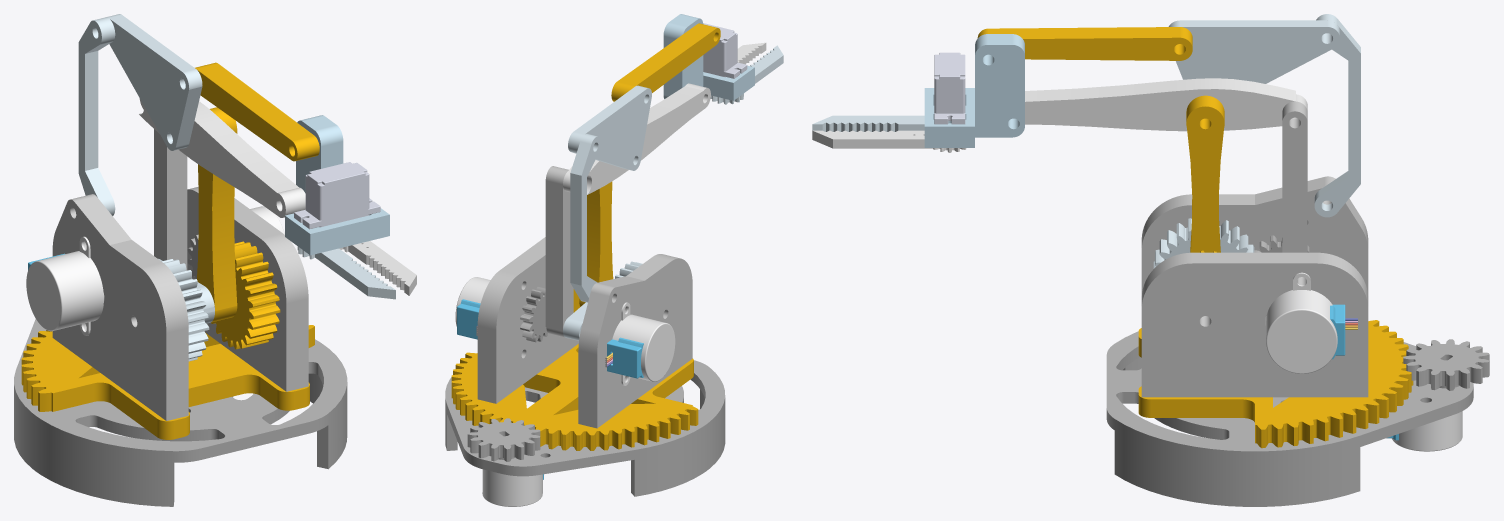
File: arm.gltf
The picture shows the model from 3 angles, left to right: view 1: azimuth 30°, elevation 25°; view 2: azimuth 150°, elevation 25°; view 3: azimuth 270°, elevation 25°; orthographic projection. The views are drawn at different scales.
Parts seen in each view (by area): view 1: Part 37, Support Level Link, Spur gear (60 teeth), X Drive, 28BYJ-48 v1 (×2), Support, Leveling Triangle, Main Arm, Elbow-Claw Leveling Link, Claw Mount, Base-Elbow Leveling Link, Main Dead Link (+3 smaller); view 2: Spur gear (60 teeth), Part 37, Support Level Link, 28BYJ-48 v1 (×5), Support, Main Dead Link, Leveling Triangle, Main Arm, Elbow-Claw Leveling Link, Base-Elbow Leveling Link, Claw Mount, Turret Pinion (+5 smaller); view 3: Support, Part 37, Spur gear (60 teeth), Main Arm, 28BYJ-48 v1 (×3), Support Level Link, Leveling Triangle, Claw Mount, Elbow-Claw Leveling Link, X Drive, Main Dead Link, Base-Elbow Leveling Link (+4 smaller).
Part boxes in pixels (x1,y1,x2,y2): Part 37: (14,319,347,506); Support Level Link: (52,194,188,420); Spur gear (60 teeth): (21,325,314,439); X Drive: (197,107,280,349); 28BYJ-48 v1 (×2): (26,162,380,335); Support: (187,186,308,391); Leveling Triangle: (106,14,202,150); Main Arm: (139,98,305,217); Elbow-Claw Leveling Link: (195,62,319,161); Claw Mount: (285,115,389,255); Base-Elbow Leveling Link: (78,17,115,215); Main Dead Link: (154,129,187,270); Spur gear (60 teeth): (451,344,698,450); Part 37: (445,360,725,496); Support Level Link: (578,254,692,428); 28BYJ-48 v1 (×5): (455,23,747,506); Support: (477,237,578,403); Main Dead Link: (545,166,573,337); Leveling Triangle: (568,85,651,170); Main Arm: (563,83,710,194); Elbow-Claw Leveling Link: (611,23,720,101); Base-Elbow Leveling Link: (570,133,601,302); Claw Mount: (663,14,754,100); Turret Pinion: (467,418,540,461); Support: (1141,252,1368,397); Part 37: (1106,331,1473,506); Spur gear (60 teeth): (1138,320,1413,448); Main Arm: (1025,78,1307,131); 28BYJ-48 v1 (×3): (934,52,1462,451); Support Level Link: (1141,176,1368,295); Leveling Triangle: (1168,20,1339,83); Claw Mount: (924,34,1024,147); Elbow-Claw Leveling Link: (977,27,1192,60); X Drive: (1186,95,1224,252); Main Dead Link: (1282,101,1307,252); Base-Elbow Leveling Link: (1314,14,1360,217).
Size of the model in its own units: 0.1299 by 0.1739 by 0.2649.
